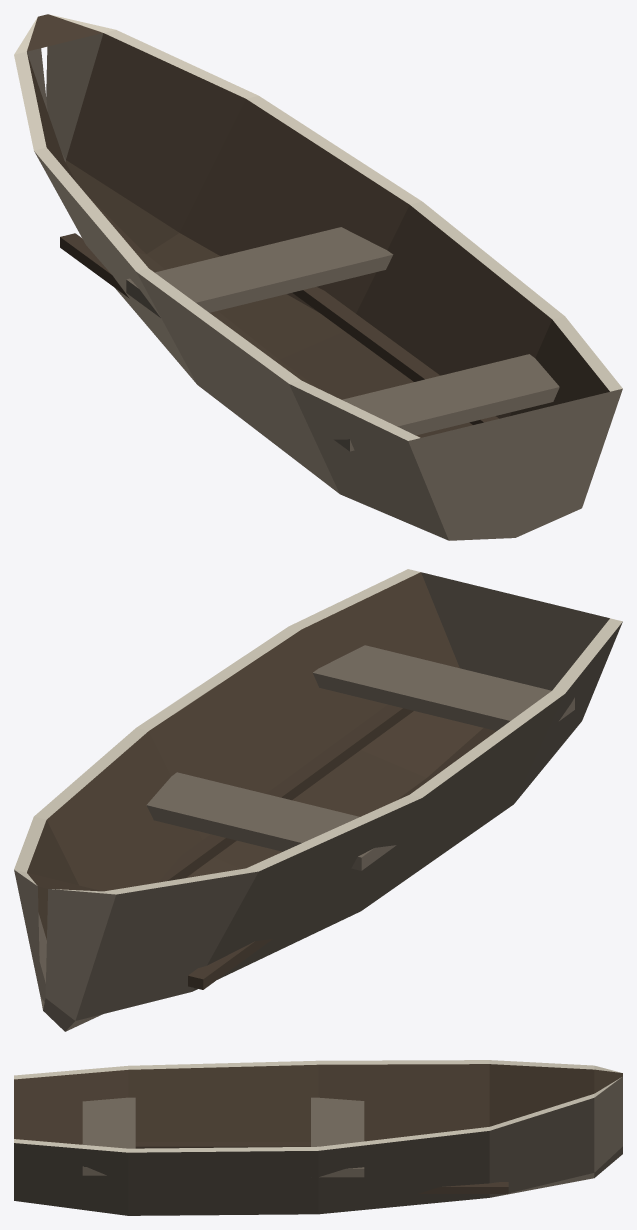
File: boat.glb
3 renders of one model, top to bottom at view 1: azimuth 30°, elevation 25°; view 2: azimuth 150°, elevation 25°; view 3: azimuth 270°, elevation 25°, orthographic. The views are drawn at different scales.
Parts seen in each view (by area): view 1: boat; view 2: boat; view 3: boat.
Boxes of the visible parts, x1,y1,x2,y2 form: boat: [14, 14, 622, 540]; boat: [14, 569, 622, 1031]; boat: [14, 1060, 622, 1215].
Bounding box in the file's own units: 1.12 × 0.71 × 3.2.
